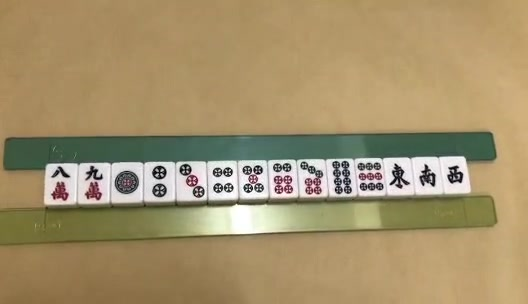1p: (114, 171, 140, 195)
1z: (391, 163, 411, 190)
2p: (151, 165, 167, 197)
2z: (418, 164, 437, 188)
3p: (180, 164, 205, 198)
3z: (447, 166, 464, 183)
4p: (213, 167, 234, 194)
5p: (243, 165, 265, 193)
6p: (274, 163, 293, 195)
7p: (300, 162, 322, 196)
8m: (48, 166, 71, 201)
8p: (332, 160, 353, 194)
9m: (85, 166, 102, 200)
9p: (358, 163, 383, 190)
